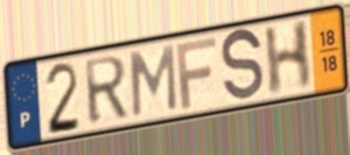2: (43, 60, 82, 137)
F: (174, 35, 219, 111)
H: (262, 17, 313, 99)
M: (128, 42, 179, 119)
R: (81, 53, 131, 128)
S: (219, 25, 266, 107)
